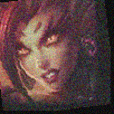Zyra: (1, 1, 105, 113)
